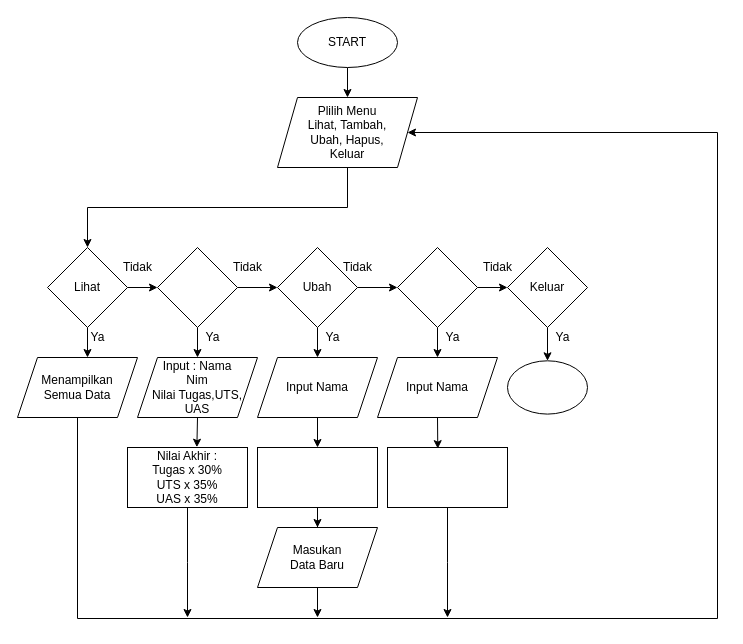
Image size: 743x644. Some labels were removed from this diagram. Each missing label, with the centre of its shape:
"Data DI Hapus" belongs at [447,477].
"END" belongs at [547,387].
"Hapus" belongs at [437,287].
"Pencarian Data" belongs at [317,477].
"Tambah" belongs at [197,287].
